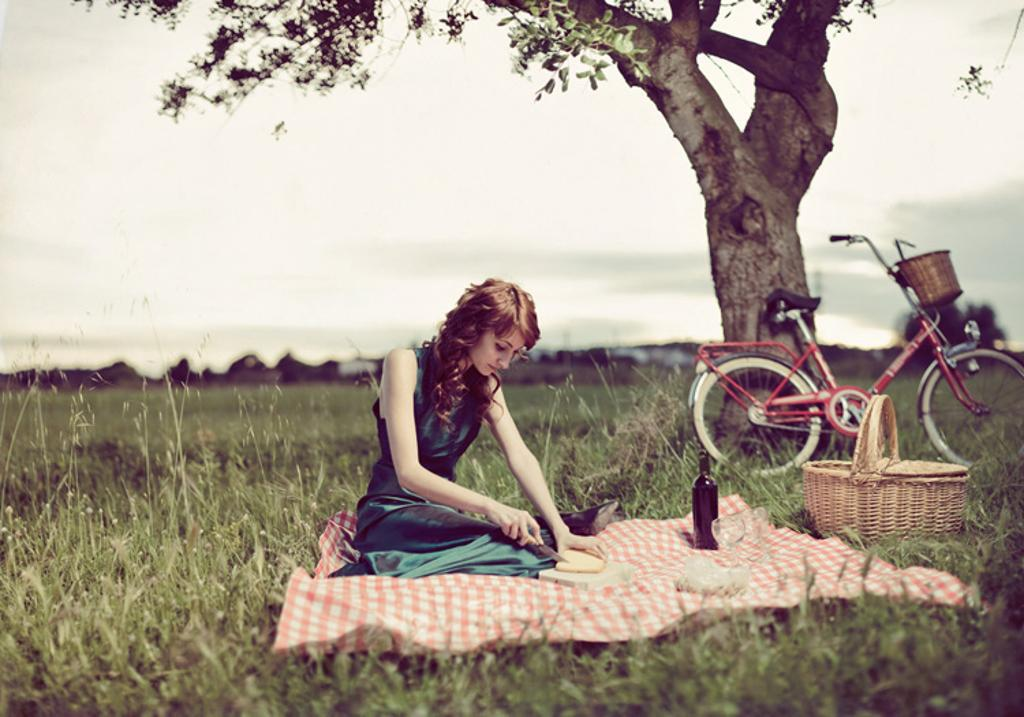face: (474, 324, 525, 376)
